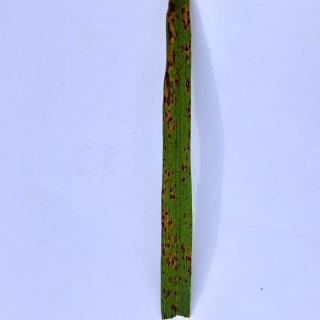Blast: (150, 170, 183, 222), (157, 238, 196, 267), (172, 146, 201, 180), (160, 8, 182, 37), (160, 110, 180, 130), (160, 49, 178, 69), (159, 80, 177, 100), (180, 3, 192, 30), (180, 40, 193, 56), (182, 73, 193, 90), (180, 3, 190, 20), (170, 302, 180, 314)
